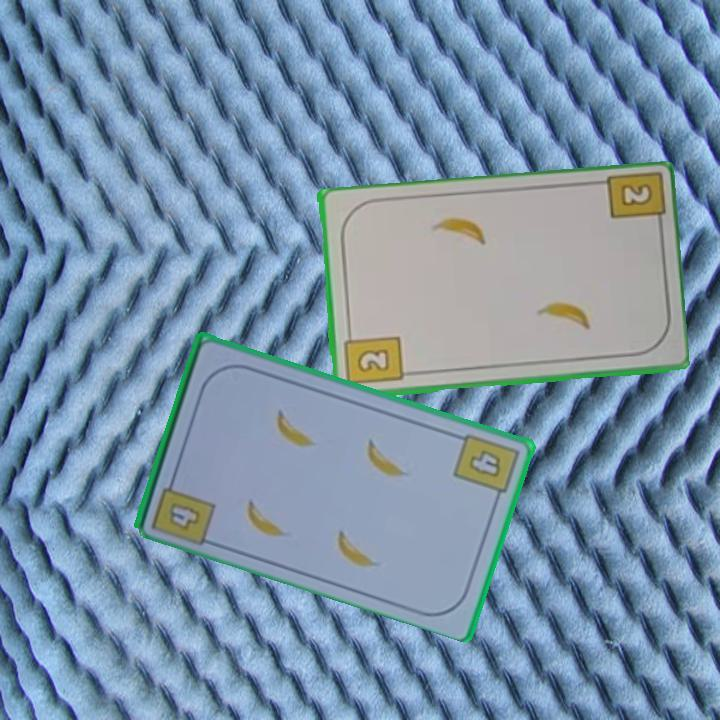2b: (340, 327, 404, 388), (616, 180, 655, 210)
4b: (450, 429, 522, 505), (165, 498, 204, 533)
